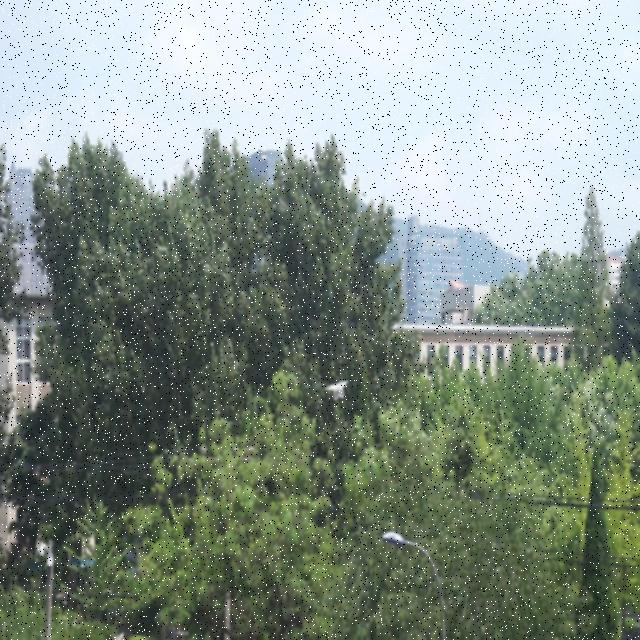UAV: (324, 380, 350, 400)
